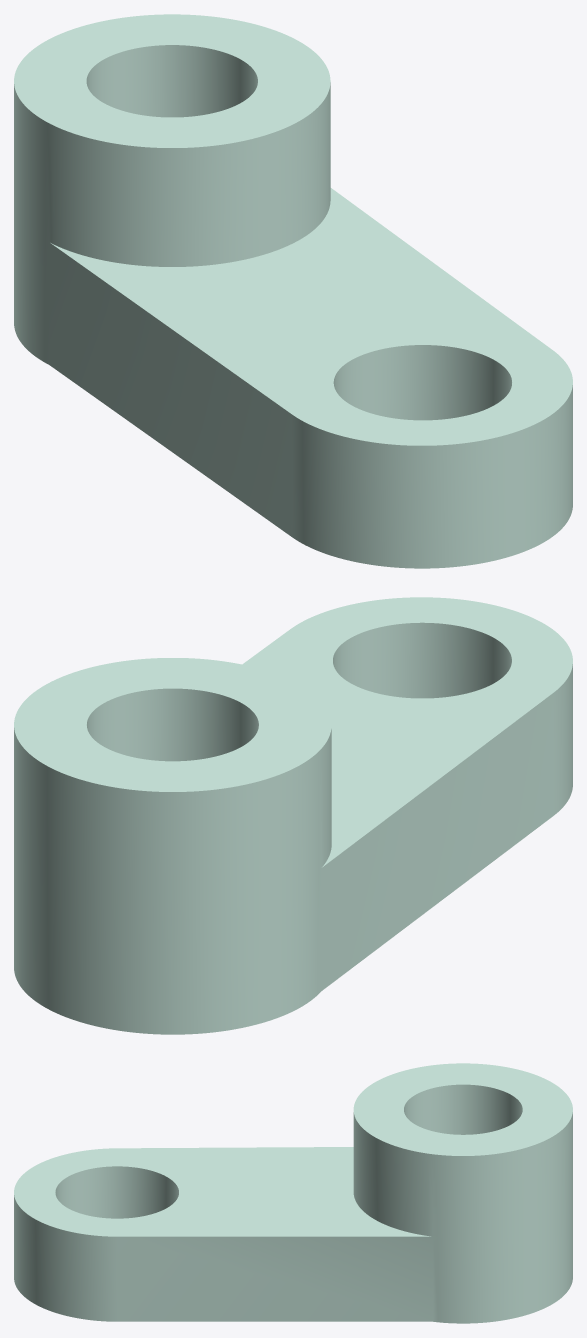
3 renders of one model, top to bottom at view 1: azimuth 30°, elevation 25°; view 2: azimuth 150°, elevation 25°; view 3: azimuth 270°, elevation 25°, orthographic. The views are drawn at different scales.
Parts seen in each view (by area): view 1: Renderer Node; view 2: Renderer Node; view 3: Renderer Node.
Boxes of the visible parts, box(x1,y1,x2,y2) form: Renderer Node: box(14, 14, 572, 568); Renderer Node: box(14, 597, 572, 1034); Renderer Node: box(14, 1063, 572, 1323).
Size of the model in its own units: 0.5841 by 0.4922 by 1.49.
